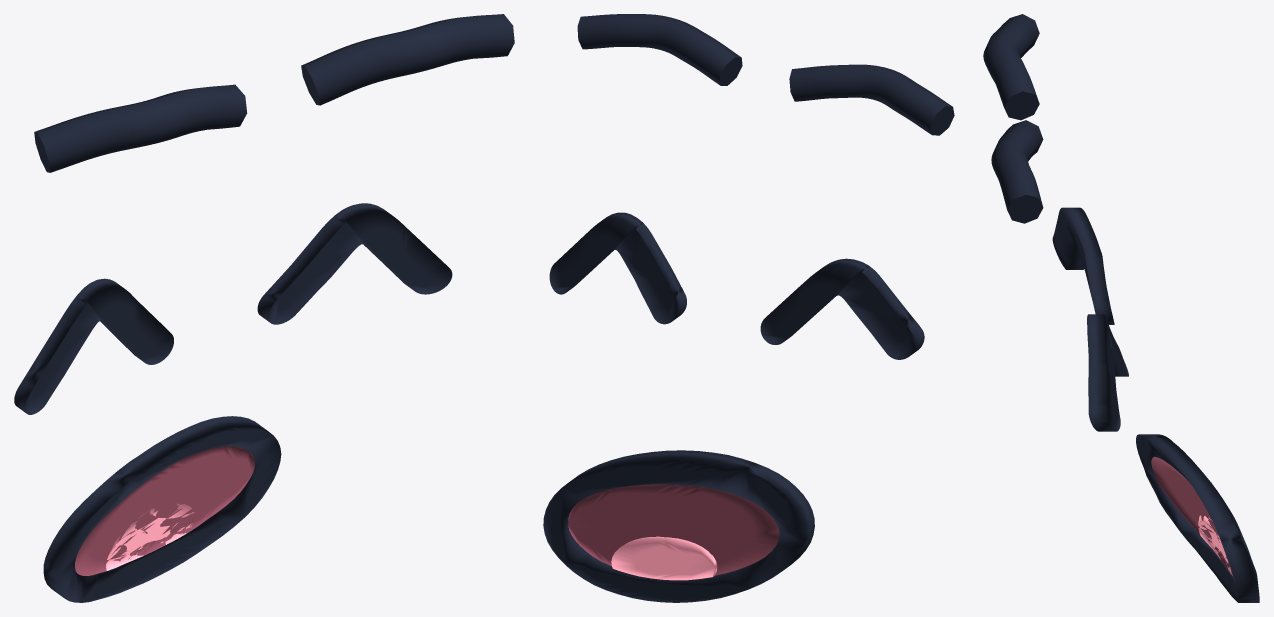
File: cloud-face-laugh.glb
3 views of the same model, side by side, from view 1: azimuth 30°, elevation 25°; view 2: azimuth 150°, elevation 25°; view 3: azimuth 270°, elevation 25° (orthographic). The views are drawn at different scales.
Visible parts, largest first — view 1: MouthLip, MouthIn, EyeHappy_R, Brow_R, Brow_L, EyeHappy_L, Tongue; view 2: MouthLip, MouthIn, EyeHappy_L, EyeHappy_R, Brow_L, Brow_R, Tongue; view 3: MouthLip, Brow_L, Brow_R, EyeHappy_R, EyeHappy_L, MouthIn, Tongue.
Part boxes in pixels (x1,y1,x2,y2): MouthLip: (43,416,281,602); MouthIn: (75,446,254,575); EyeHappy_R: (257,203,452,324); Brow_R: (301,14,514,105); Brow_L: (34,84,247,172); EyeHappy_L: (14,278,173,414); Tongue: (106,503,194,570); MouthLip: (543,450,814,602); MouthIn: (568,484,779,575); EyeHappy_L: (760,258,924,359); EyeHappy_R: (549,212,686,324); Brow_L: (789,64,954,135); Brow_R: (577,14,742,85); Tongue: (611,536,717,580); MouthLip: (1136,434,1259,602); Brow_L: (983,14,1039,120); Brow_R: (991,120,1043,223); EyeHappy_R: (1087,314,1128,431); EyeHappy_L: (1052,207,1114,324); MouthIn: (1151,456,1233,576); Tongue: (1198,515,1232,575).
Size of the model in its own units: 0.5227 by 0.6515 by 0.3314.
